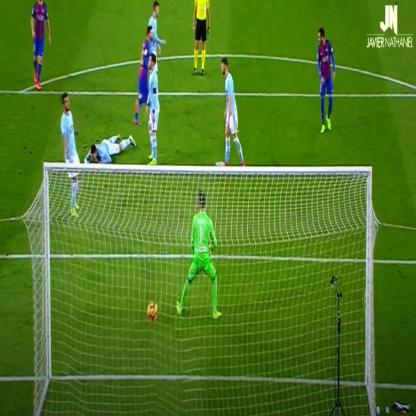goal: (107, 162, 176, 358)
